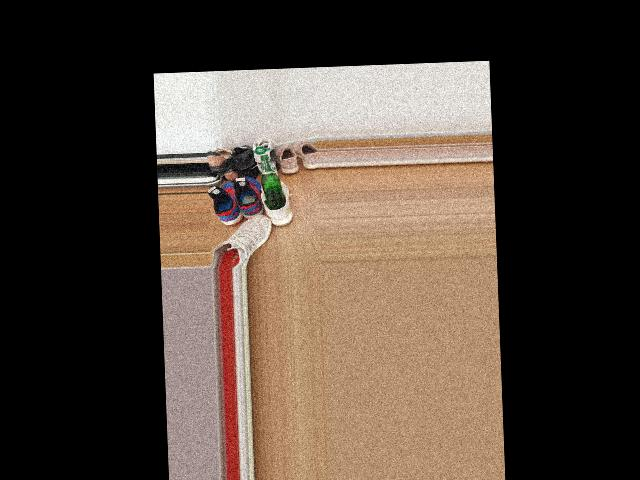beer: (260, 154, 285, 210)
